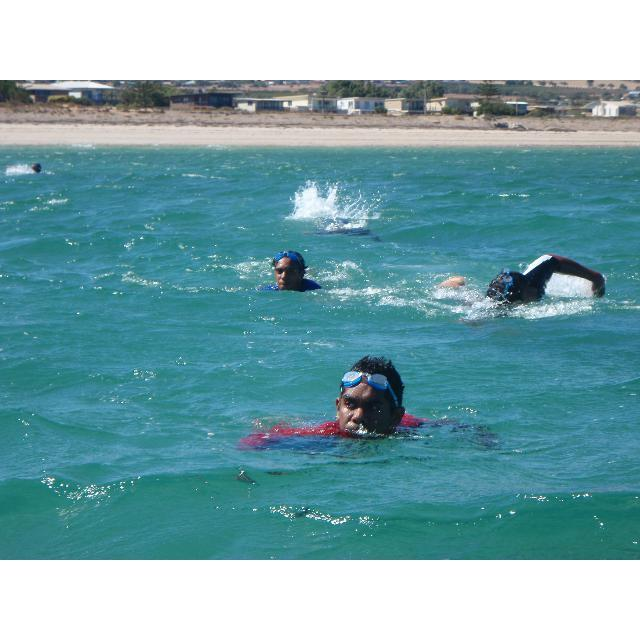human: (264, 351, 471, 451), (488, 250, 608, 321), (270, 247, 318, 294)
